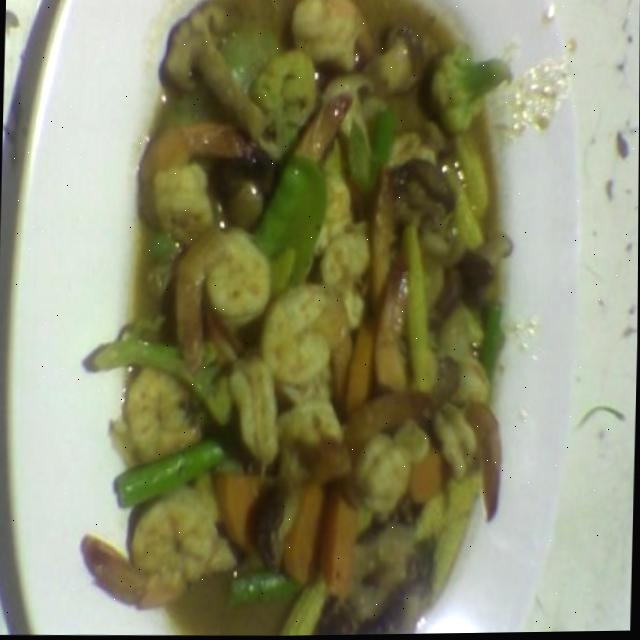蔬菜料理: (74, 1, 528, 617)
